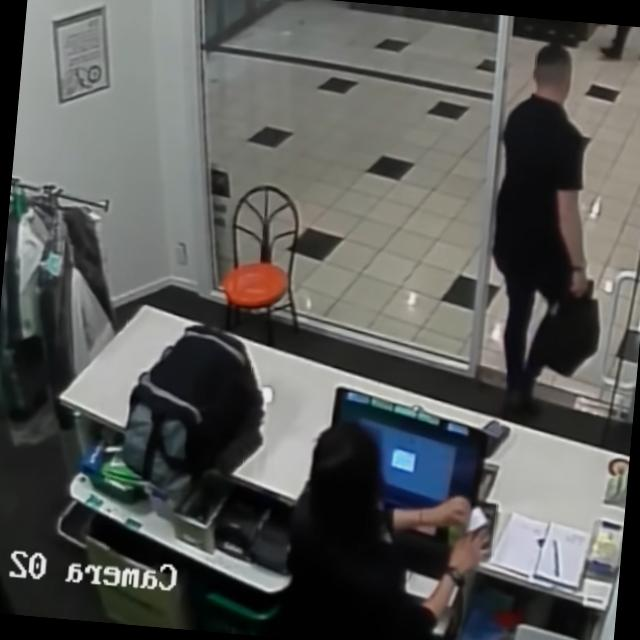person: (474, 36, 613, 417), (275, 417, 496, 640), (597, 23, 640, 64)
